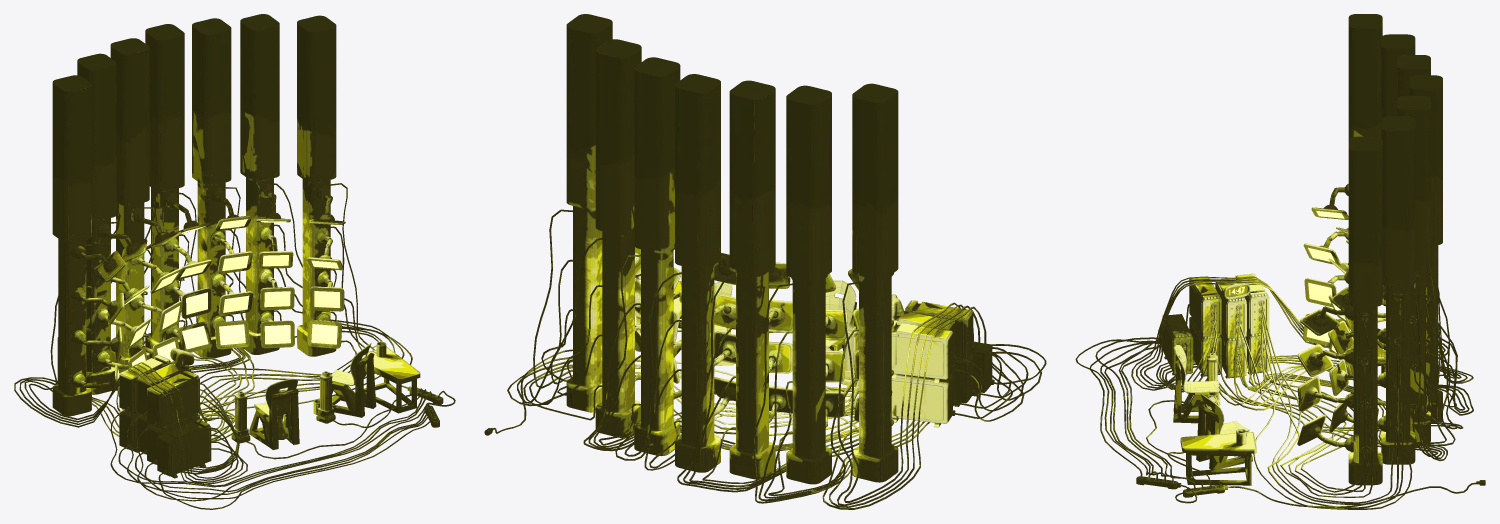
The model's file is surveillance_room-transformed.glb.
The picture shows the model from 3 angles, left to right: view 1: azimuth 30°, elevation 25°; view 2: azimuth 150°, elevation 25°; view 3: azimuth 270°, elevation 25°; orthographic projection. The views are drawn at different scales.
Parts seen in each view (by area): view 1: Object_10, Object_6, Object_13; view 2: Object_10, Object_6; view 3: Object_10, Object_6, Object_13.
Boxes of the visible parts, x1,y1,x2,y2 form: Object_10: [52, 14, 443, 478]; Object_6: [14, 183, 455, 509]; Object_13: [117, 219, 340, 379]; Object_10: [484, 14, 994, 484]; Object_6: [493, 209, 1046, 509]; Object_10: [1136, 14, 1485, 497]; Object_6: [1075, 187, 1476, 509]; Object_13: [1229, 211, 1351, 366].
Size of what is drawn, in the model's own units: 6.52 by 5.84 by 6.49.
Materials: 3 (2 with a texture image).
